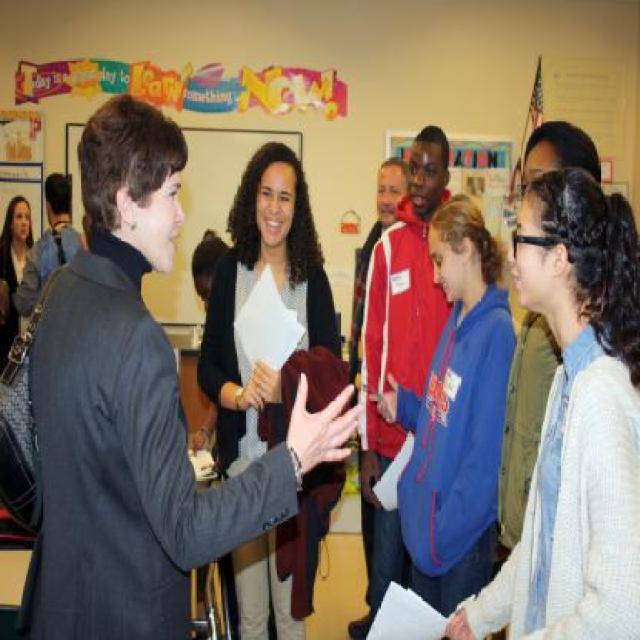Person: (13, 94, 364, 638), (446, 167, 639, 638), (196, 138, 342, 639), (364, 196, 518, 618), (346, 124, 457, 638), (190, 226, 278, 639), (348, 160, 408, 529), (15, 173, 81, 319), (0, 190, 35, 372), (77, 214, 91, 251)
